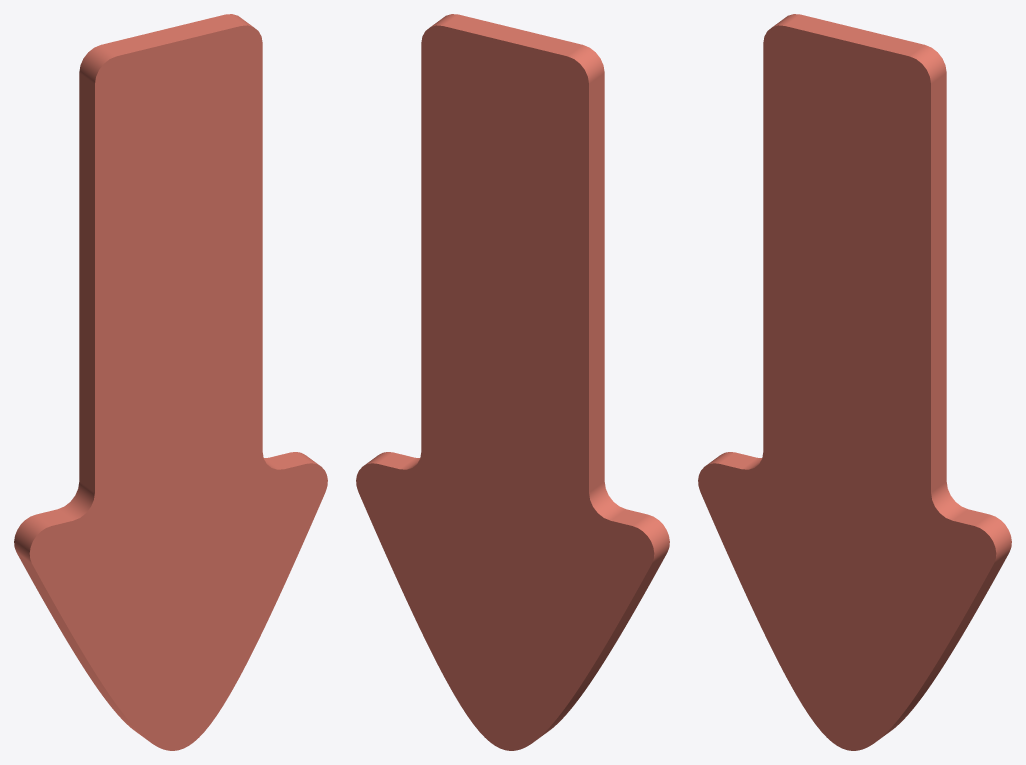
Rendered from arrow.glb.
The picture shows the model from 3 angles, left to right: view 1: azimuth 30°, elevation 25°; view 2: azimuth 150°, elevation 25°; view 3: azimuth 330°, elevation 25°; orthographic projection.
Visible parts, largest first — view 1: g Body1; view 2: g Body1; view 3: g Body1.
Boxes of the visible parts, x1,y1,x2,y2 form: g Body1: (14, 14, 327, 750); g Body1: (356, 14, 669, 750); g Body1: (698, 14, 1011, 750).
Size of the model in its own units: 5.5 by 12.5 by 0.5.
